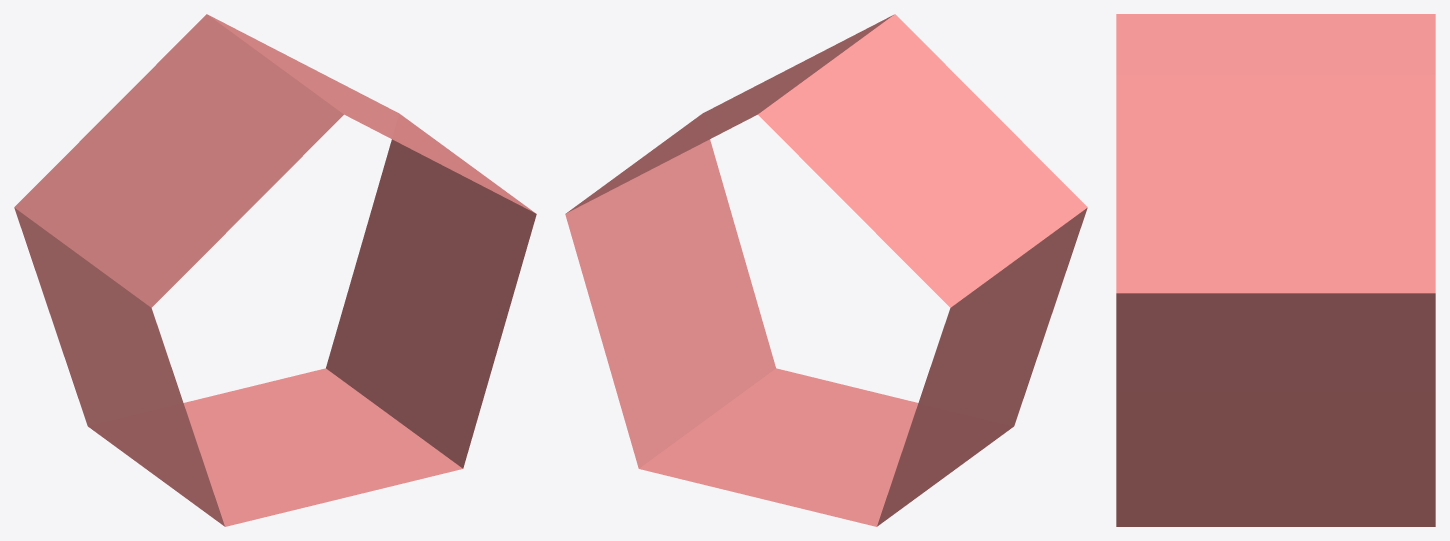
File: PentagonalPrismA.obj
The picture shows the model from 3 angles, left to right: view 1: azimuth 30°, elevation 25°; view 2: azimuth 150°, elevation 25°; view 3: azimuth 270°, elevation 25°; orthographic projection. The views are drawn at different scales.
Size of the model in its own units: 1.62 by 1.54 by 1.
